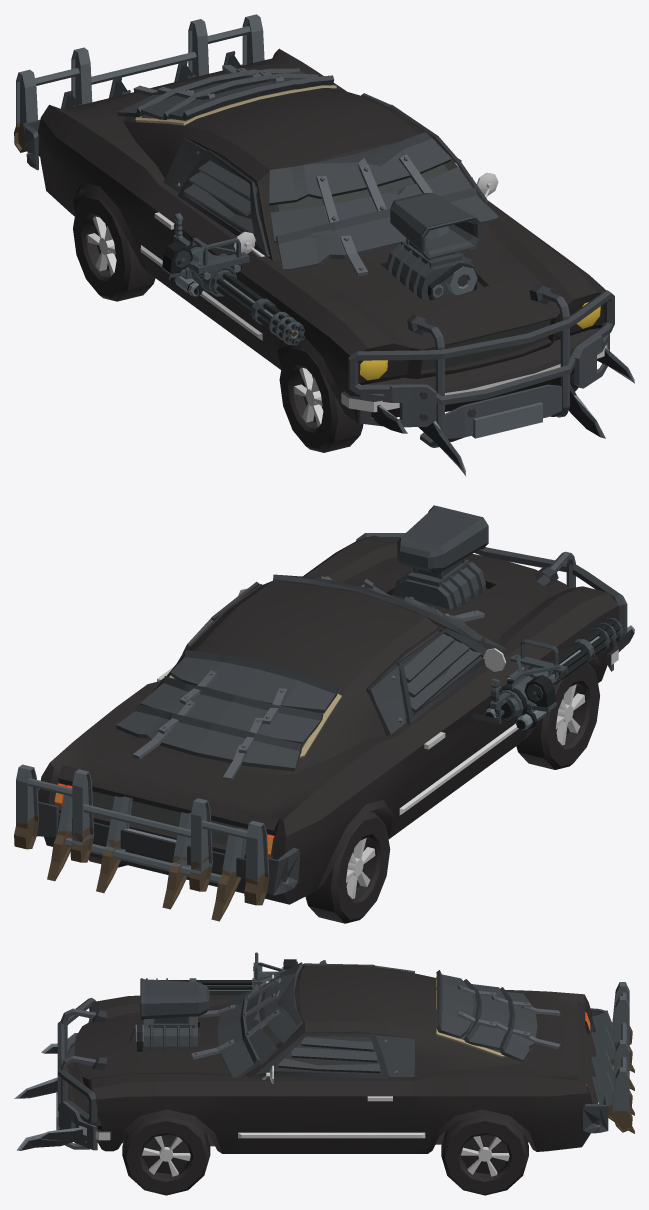
Rendered from mustangUpgrade.fbx.
3 renders of one model, top to bottom at view 1: azimuth 30°, elevation 25°; view 2: azimuth 150°, elevation 25°; view 3: azimuth 270°, elevation 25°, orthographic. The views are drawn at different scales.
Parts seen in each view (by area): view 1: MustangBase, frontupgrade, frontwidowupgrade, engine, backupgrade, weapon, metalupgrade, windowupgrade, windowupgrade2; view 2: MustangBase, backupgrade, metalupgrade, engine, windowupgrade, weapon, frontupgrade, frontwidowupgrade; view 3: MustangBase, metalupgrade, frontwidowupgrade, backupgrade, frontupgrade, windowupgrade2, engine, weapon.
Part boxes in pixels (box(x1,y1,x2,y2)): MustangBase: box(38, 48, 607, 452); frontupgrade: box(348, 283, 634, 475); frontwidowupgrade: box(269, 132, 498, 276); engine: box(386, 192, 480, 300); backupgrade: box(14, 14, 264, 170); weapon: box(161, 213, 304, 345); metalupgrade: box(117, 65, 334, 120); windowupgrade: box(163, 137, 269, 256); windowupgrade2: box(362, 93, 488, 203); MustangBase: box(38, 535, 619, 923); backupgrade: box(14, 764, 300, 921); metalupgrade: box(116, 650, 338, 781); engine: box(393, 505, 488, 610); windowupgrade: box(367, 628, 487, 735); weapon: box(472, 617, 623, 730); frontupgrade: box(356, 533, 634, 671); frontwidowupgrade: box(273, 574, 506, 651); MustangBase: box(67, 965, 597, 1195); metalupgrade: box(436, 970, 560, 1062); frontwidowupgrade: box(191, 962, 303, 1077); backupgrade: box(583, 982, 634, 1133); frontupgrade: box(14, 997, 107, 1150); windowupgrade2: box(254, 1033, 414, 1078); engine: box(135, 978, 209, 1051); weapon: box(146, 952, 326, 994).
Bounding box in the file's own units: 2.76 × 1.7 × 5.93.
2 materials, 2 textured.
